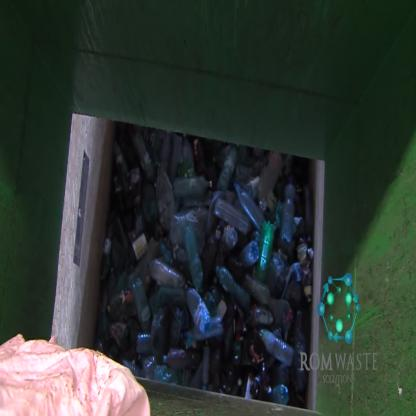Glass Bottle: (168, 207, 208, 264), (149, 255, 186, 309), (233, 180, 268, 234), (215, 264, 251, 314), (257, 327, 296, 369), (131, 131, 159, 188), (184, 283, 212, 336), (255, 219, 274, 286), (280, 175, 296, 245), (131, 277, 151, 332), (216, 144, 238, 192), (296, 245, 314, 302), (183, 316, 224, 341), (173, 175, 212, 200), (106, 272, 127, 315), (163, 348, 201, 370), (302, 184, 314, 243), (114, 141, 130, 183), (238, 241, 259, 269), (142, 182, 156, 224), (181, 132, 194, 176), (201, 345, 211, 392), (268, 383, 289, 405), (135, 334, 155, 354), (113, 177, 124, 213), (232, 336, 241, 368), (231, 378, 242, 398)
